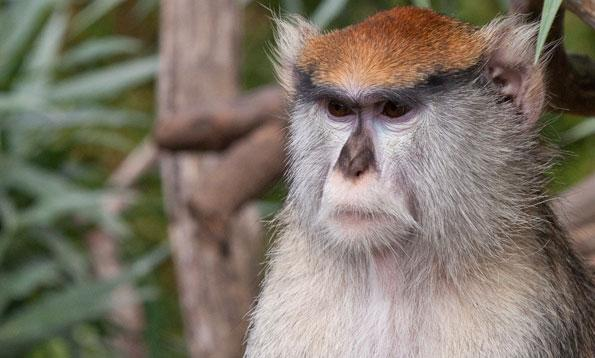monkey: (253, 0, 595, 358)
